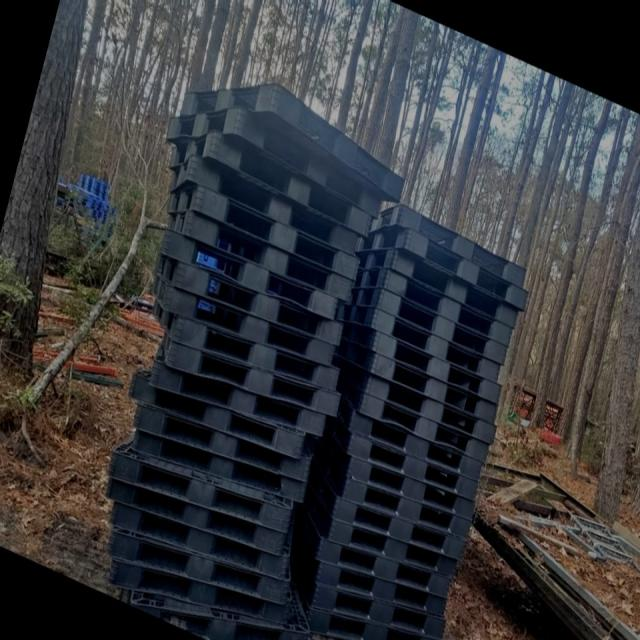non-igps: (176, 78, 410, 214), (168, 122, 378, 253), (163, 107, 385, 228), (156, 218, 344, 341), (165, 146, 361, 263), (162, 196, 358, 313), (164, 182, 363, 290), (153, 246, 347, 353), (150, 266, 338, 373), (149, 295, 343, 398), (105, 436, 296, 540), (159, 321, 344, 420), (105, 488, 295, 584), (326, 344, 499, 448), (126, 366, 308, 463), (130, 394, 316, 488), (146, 349, 330, 444), (105, 518, 293, 610), (331, 291, 503, 388), (103, 472, 289, 561), (353, 222, 531, 315), (332, 315, 504, 411), (330, 333, 500, 429), (365, 198, 529, 294), (350, 243, 521, 333), (129, 423, 310, 507), (105, 549, 295, 628), (346, 279, 510, 369), (352, 261, 514, 351), (116, 570, 313, 640), (353, 385, 492, 472), (346, 405, 485, 486), (345, 426, 480, 505), (329, 490, 468, 565), (341, 451, 478, 525), (313, 532, 454, 602), (324, 512, 460, 583), (340, 474, 474, 544), (311, 558, 451, 621), (309, 577, 448, 640), (304, 601, 446, 640)
